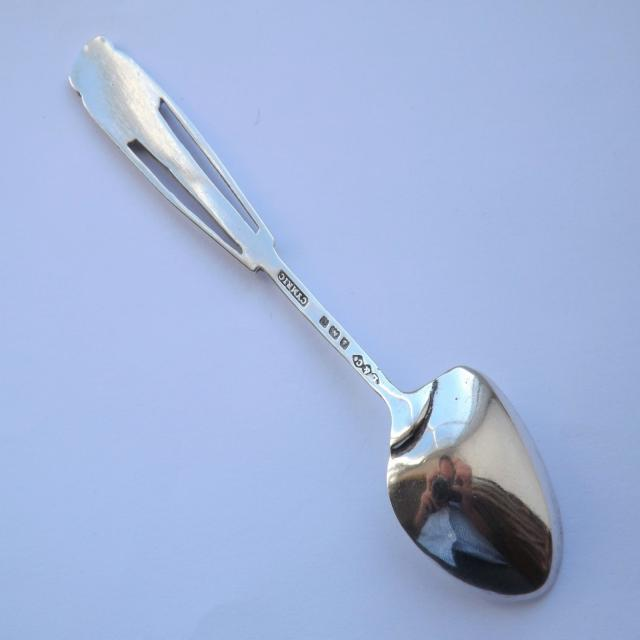spoon: (59, 30, 564, 611)
